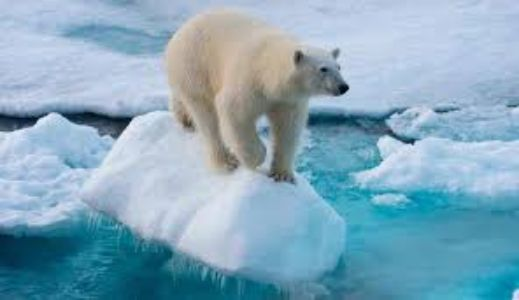bear: (158, 3, 351, 185)
